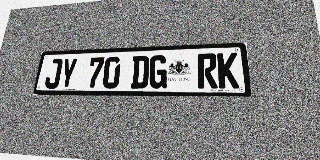0: (102, 56, 121, 88)
7: (86, 57, 105, 88)
D: (130, 55, 150, 88)
G: (148, 55, 167, 88)
J: (44, 59, 63, 89)
K: (217, 52, 239, 88)
R: (197, 53, 218, 88)
Y: (58, 58, 78, 89)
